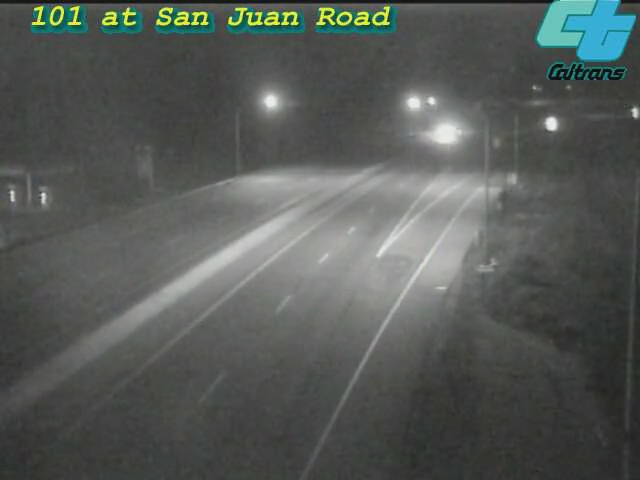vehicle: (422, 108, 472, 158), (527, 99, 577, 149), (609, 88, 640, 138)
